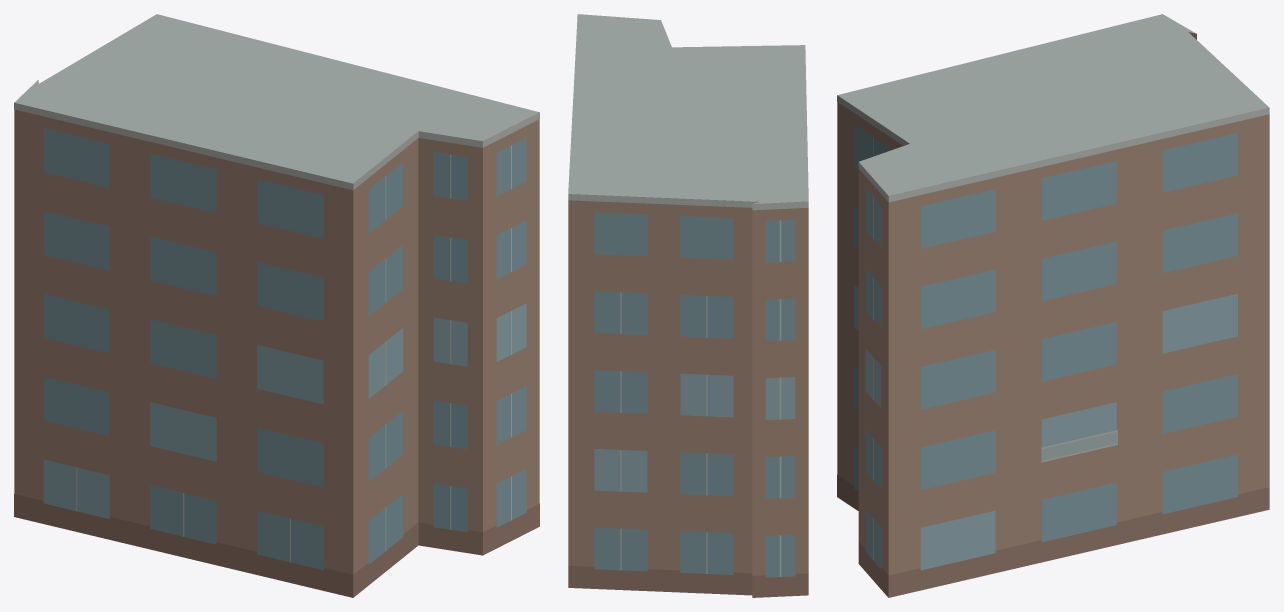
File: survey-upis-32832956.glb
3 renders of one model, left to right at view 1: azimuth 30°, elevation 25°; view 2: azimuth 150°, elevation 25°; view 3: azimuth 270°, elevation 25°, orthographic. The views are drawn at different scales.
Parts seen in each view (by area): view 1: survey-upis-32832956.tmp; view 2: survey-upis-32832956.tmp; view 3: survey-upis-32832956.tmp.
Part boxes in pixels (left/top/right/bottom): survey-upis-32832956.tmp: left=14, top=14, right=539, bottom=597; survey-upis-32832956.tmp: left=568, top=14, right=808, bottom=597; survey-upis-32832956.tmp: left=837, top=14, right=1269, bottom=597.
Size of the model in its own units: 14.77 by 15.2 by 14.83.
